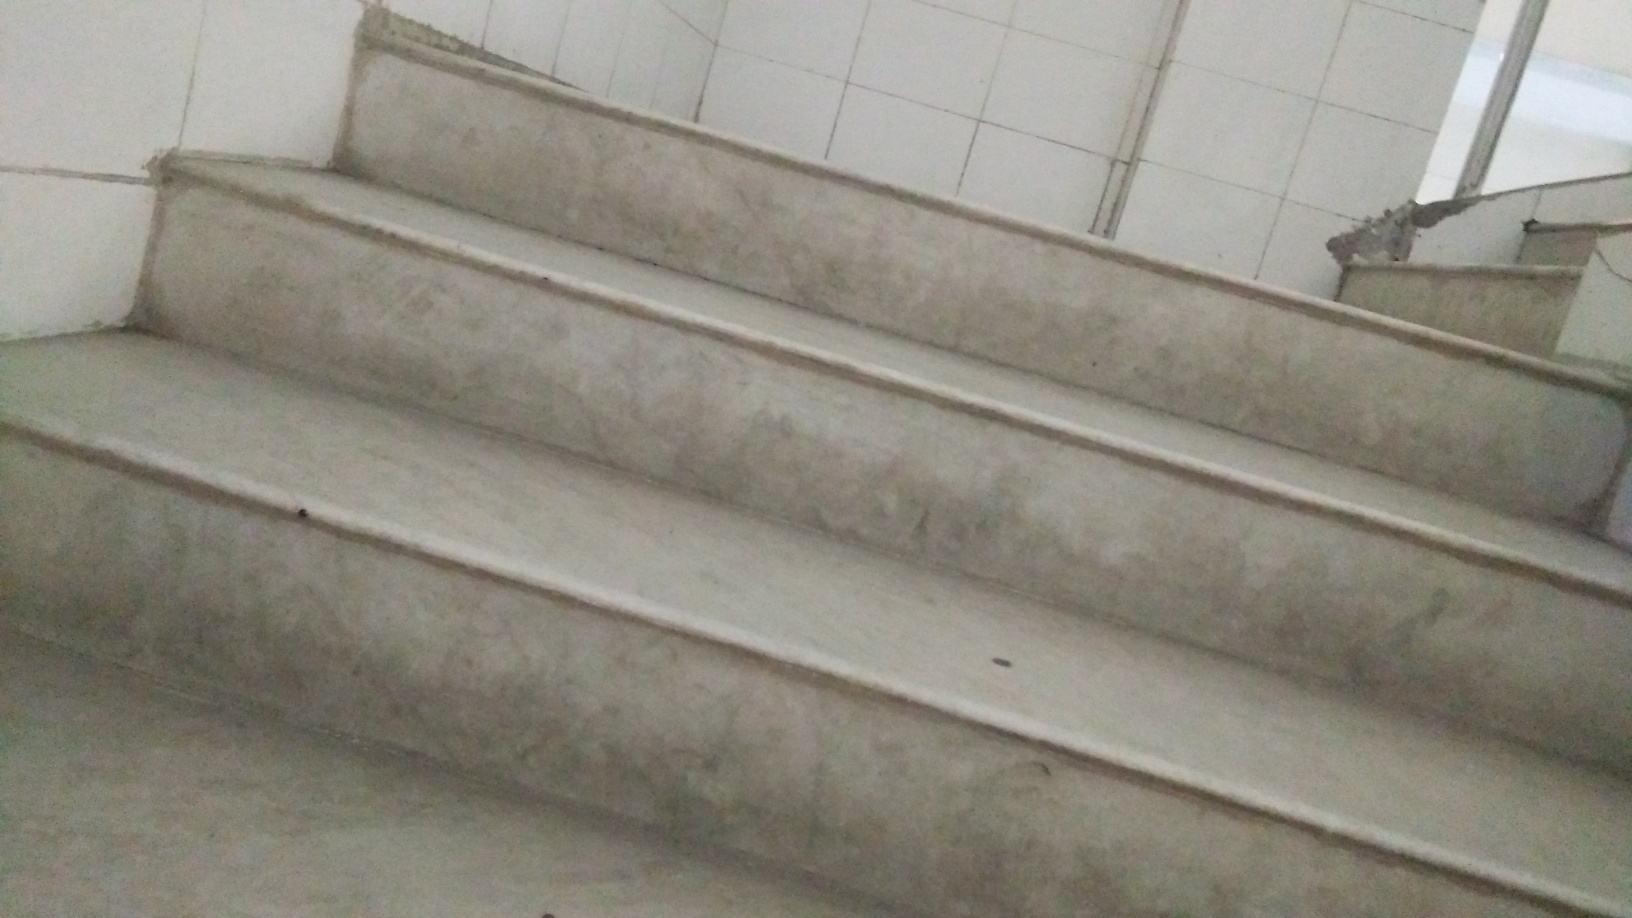stairs_up: (48, 122, 1616, 768)
